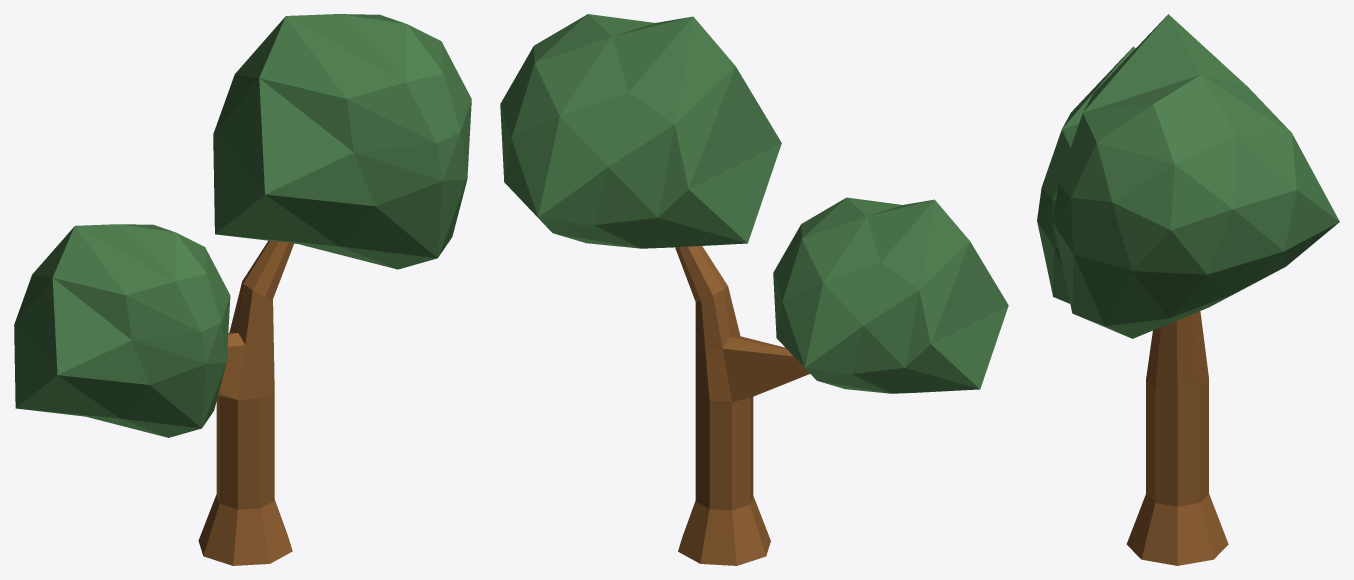
Rendered from SmallTree3.fbx.
The picture shows the model from 3 angles, left to right: view 1: azimuth 30°, elevation 25°; view 2: azimuth 150°, elevation 25°; view 3: azimuth 270°, elevation 25°; orthographic projection. The views are drawn at different scales.
Parts seen in each view (by area): view 1: Cylinder.002; view 2: Cylinder.002; view 3: Cylinder.002.
Boxes of the visible parts, <box> form: Cylinder.002: <box>14,14,471,565</box>; Cylinder.002: <box>500,14,1008,565</box>; Cylinder.002: <box>1037,14,1339,565</box>.
Bounding box in the file's own units: 456 × 499 × 250.
